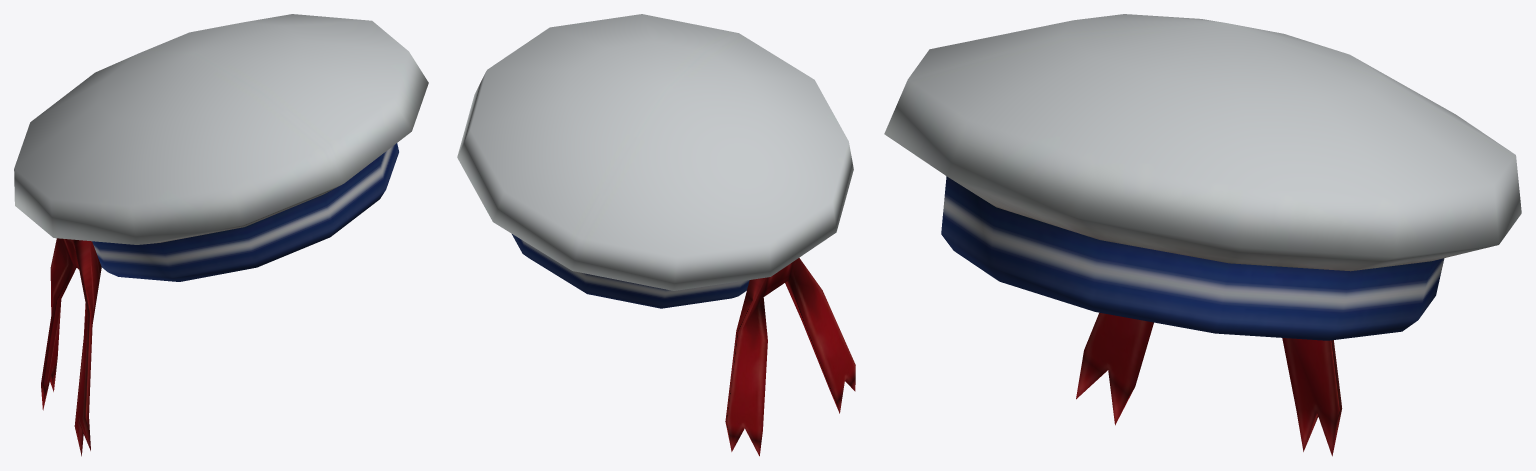
File: summerHat.glb
3 views of the same model, side by side, from view 1: azimuth 30°, elevation 25°; view 2: azimuth 150°, elevation 25°; view 3: azimuth 270°, elevation 25° (orthographic). The views are drawn at different scales.
Visible parts, largest first — view 1: summerHat; view 2: summerHat; view 3: summerHat.
Boxes of the visible parts, box(x1,y1,x2,y2) form: summerHat: box(14, 14, 428, 456); summerHat: box(457, 14, 855, 456); summerHat: box(884, 14, 1521, 456).
Bounding box in the file's own units: 0.2719 × 0.252 × 0.2744.
1 material, 1 textured.
